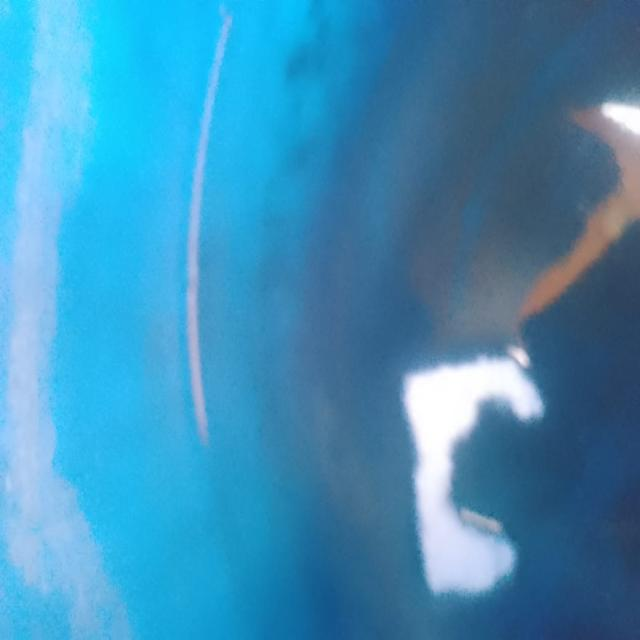litter: (382, 337, 540, 603)
